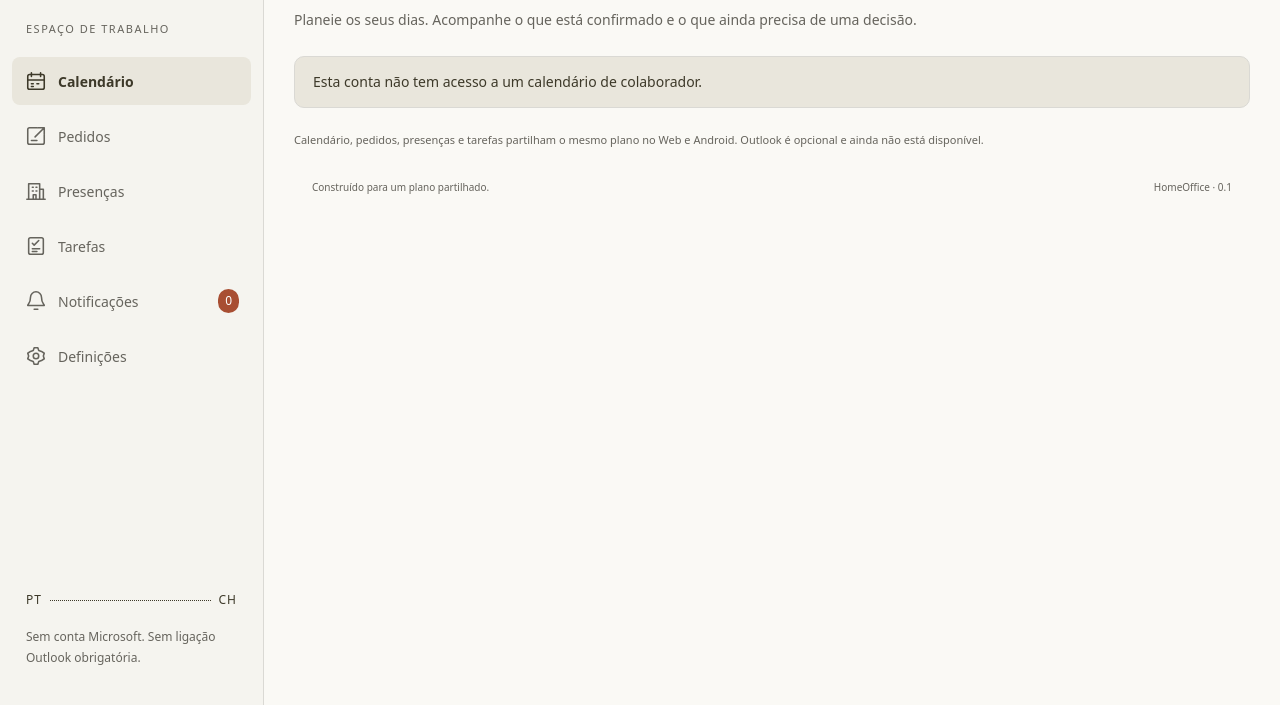
Scenario: workspace shell › labels planned areas honestly and navigates by keyboard
Click the button "Definições".
click(132, 356)  # box 12,332 -> 251,380
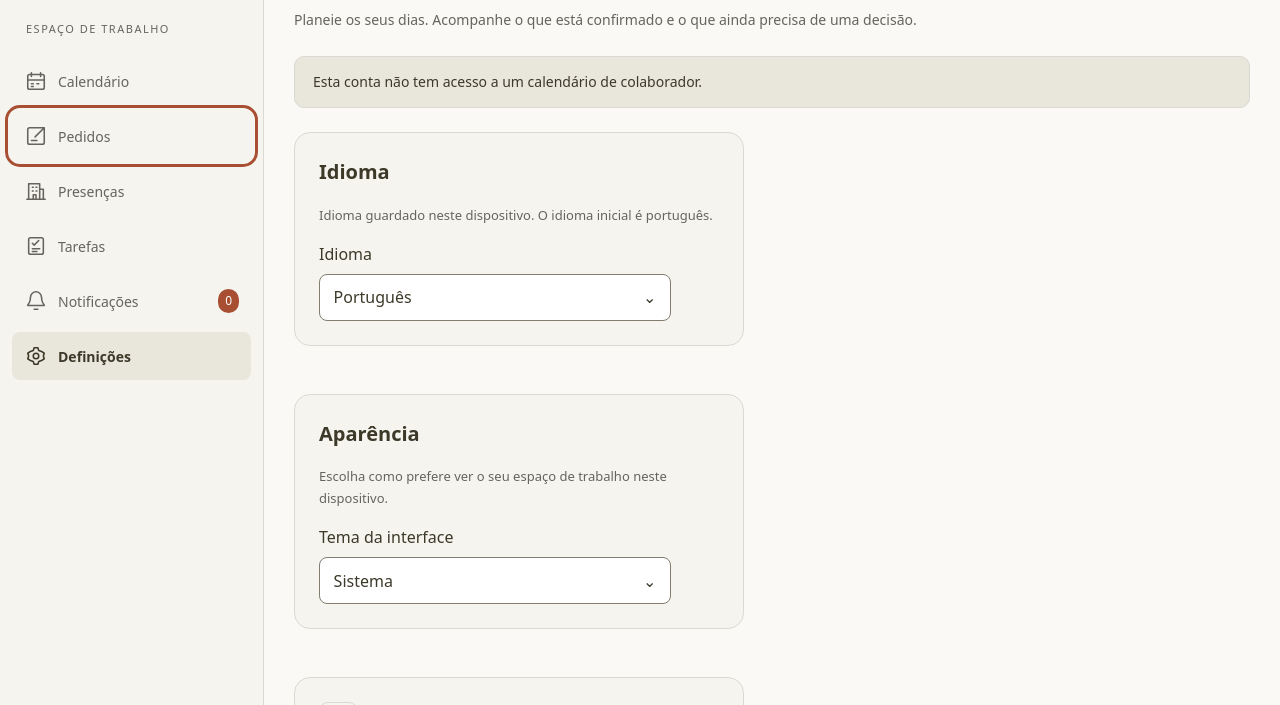
Press Enter
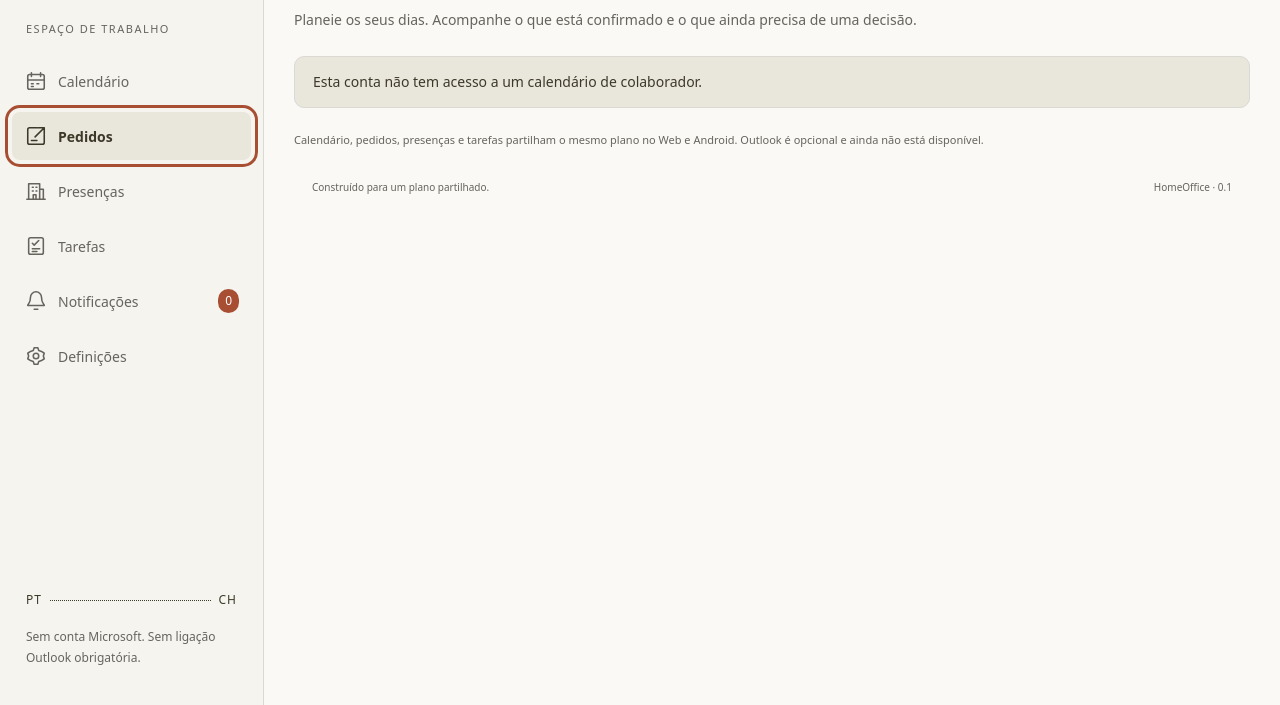
Check: the button "Tarefas" is shown, box 12,222 -> 251,270
Check: the button "Pedidos" is marked as current, box 12,112 -> 251,160
Click the button "Definições".
click(132, 356)  # box 12,332 -> 251,380
(page scrolled)
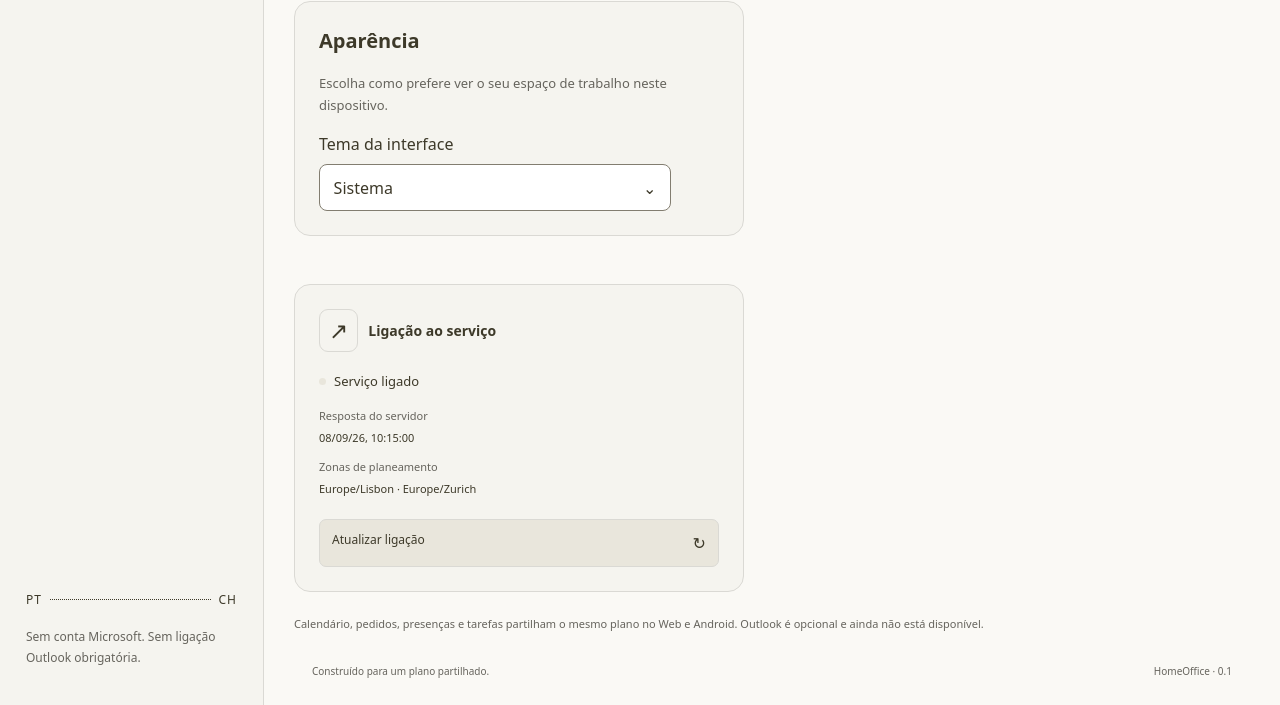
Check: the text "Serviço ligado" is shown, box 319,372 -> 419,390
